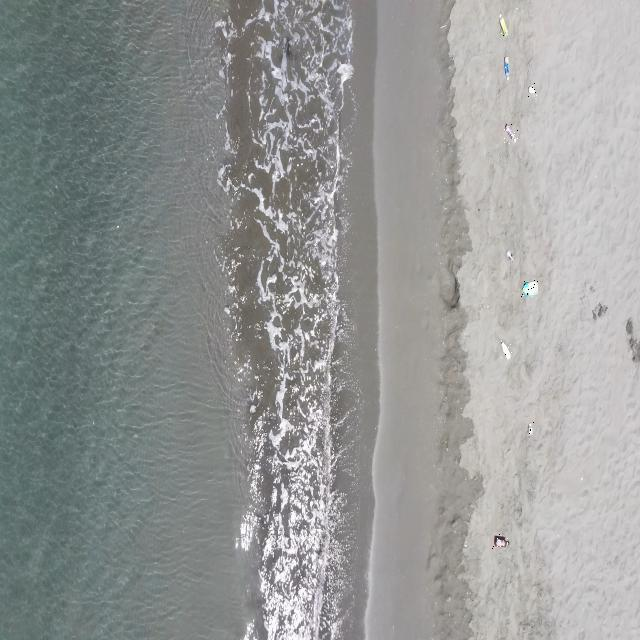Garbage: (520, 280, 536, 295), (504, 123, 515, 141), (500, 340, 510, 359), (492, 535, 507, 547), (499, 13, 507, 35), (503, 55, 508, 79), (527, 83, 535, 95), (506, 249, 512, 260), (529, 420, 533, 435)
